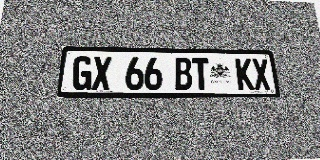6: (125, 57, 144, 90), (144, 57, 162, 90)
B: (174, 57, 193, 90)
G: (71, 56, 93, 90)
K: (235, 58, 254, 90)
T: (192, 58, 210, 90)
X: (91, 56, 112, 90), (251, 59, 271, 90)
